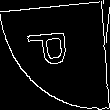P_E: (30, 34, 80, 76)
